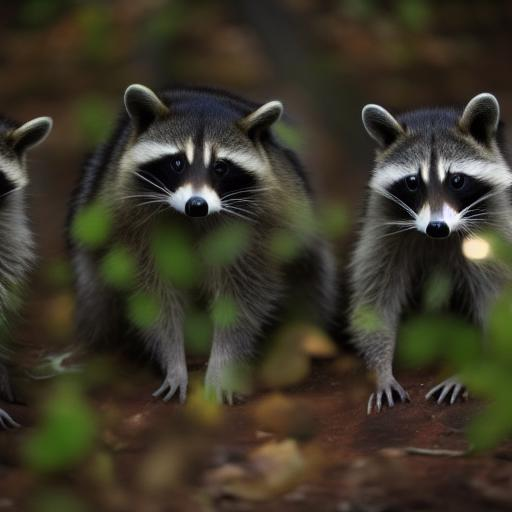raccoon: (60, 77, 346, 405), (348, 85, 512, 408), (0, 88, 57, 428)
